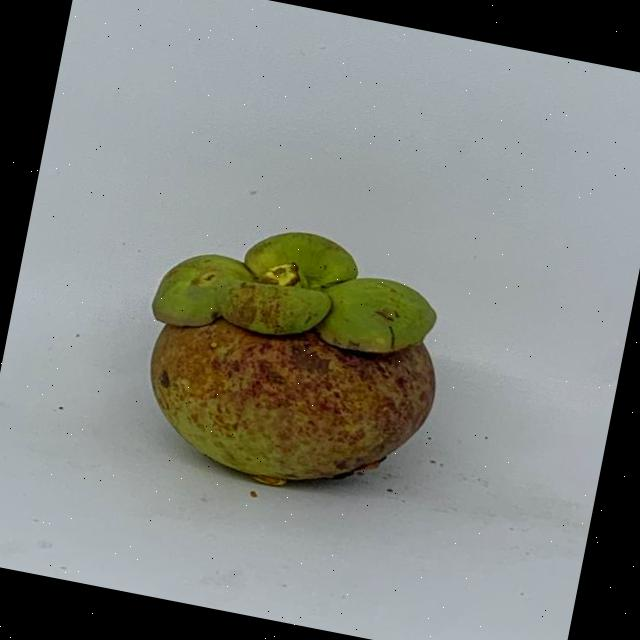mangosteen: (116, 191, 483, 538)
